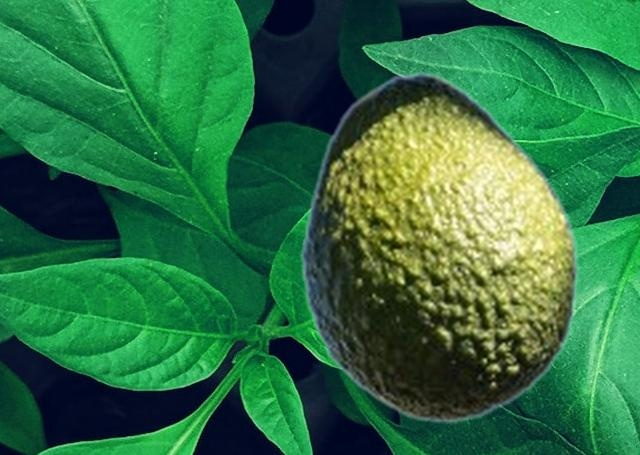avocado: (298, 71, 578, 423)
